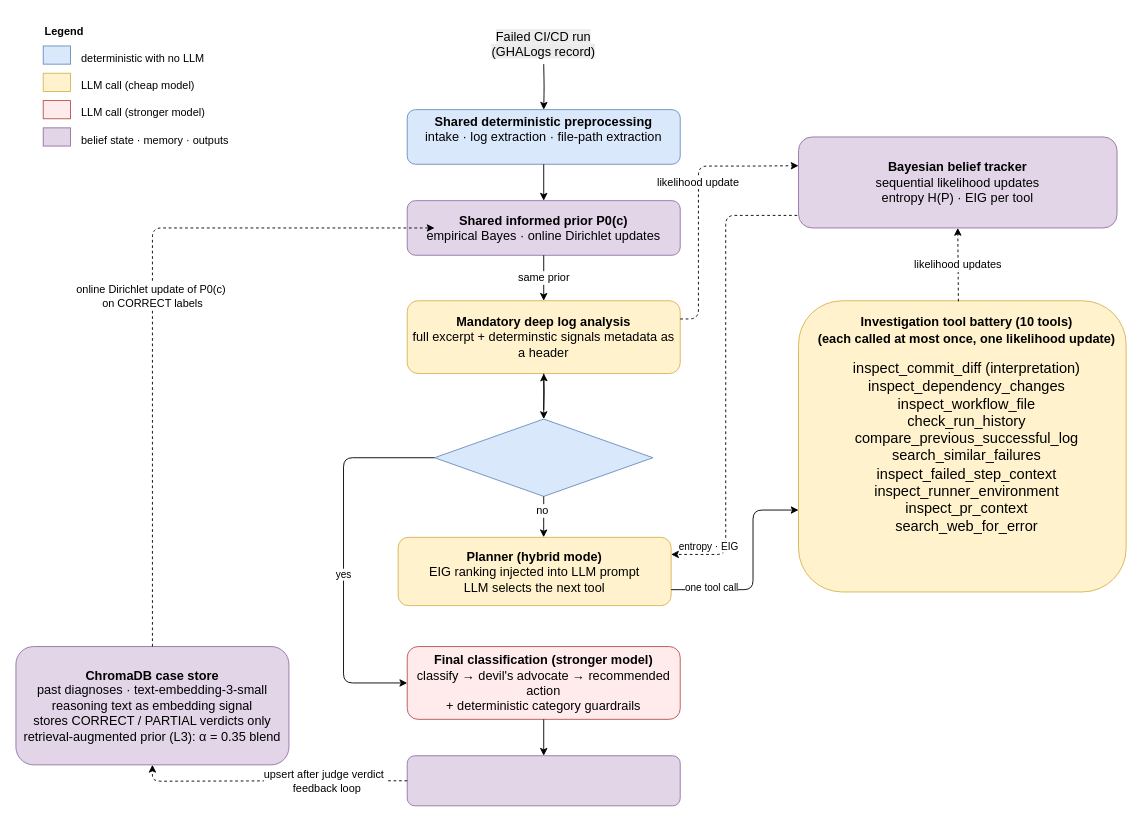
The diagram is 1142 pixels wide and 822 high, and some of its shapes have lost their labels. Each missing label, with the box of its shape:
APA diagnosis category · severity · confidence · reasoning · action: (406, 755, 680, 806)
H(P) < 1.0 bit or step ≥ 7: (434, 418, 653, 496)
